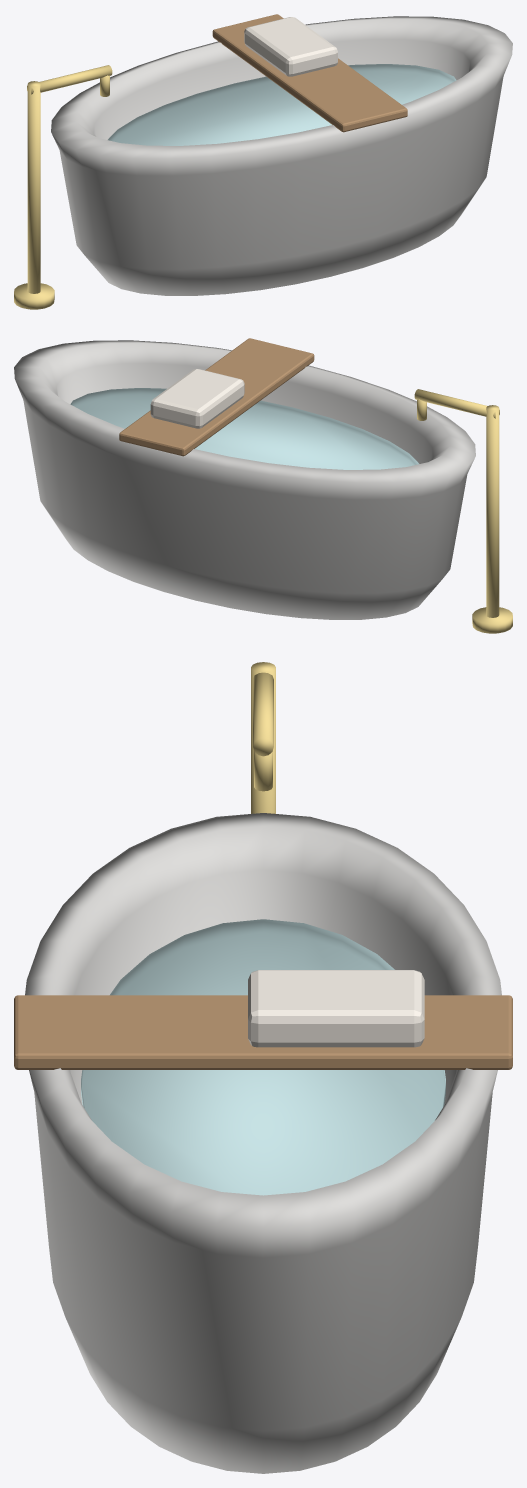
The model's file is hotel_soaking_tub.glb.
3 views of the same model, one above another, from view 1: azimuth 30°, elevation 25°; view 2: azimuth 150°, elevation 25°; view 3: azimuth 270°, elevation 25° (orthographic). The views are drawn at different scales.
Visible parts, largest first — view 1: TubShell; view 2: TubShell; view 3: TubShell.
Boxes of the visible parts, x1,y1,x2,y2 form: TubShell: (14, 14, 512, 309); TubShell: (14, 338, 512, 633); TubShell: (14, 662, 512, 1473).
Size of the model in its own units: 2.07 by 0.88 by 0.96.
